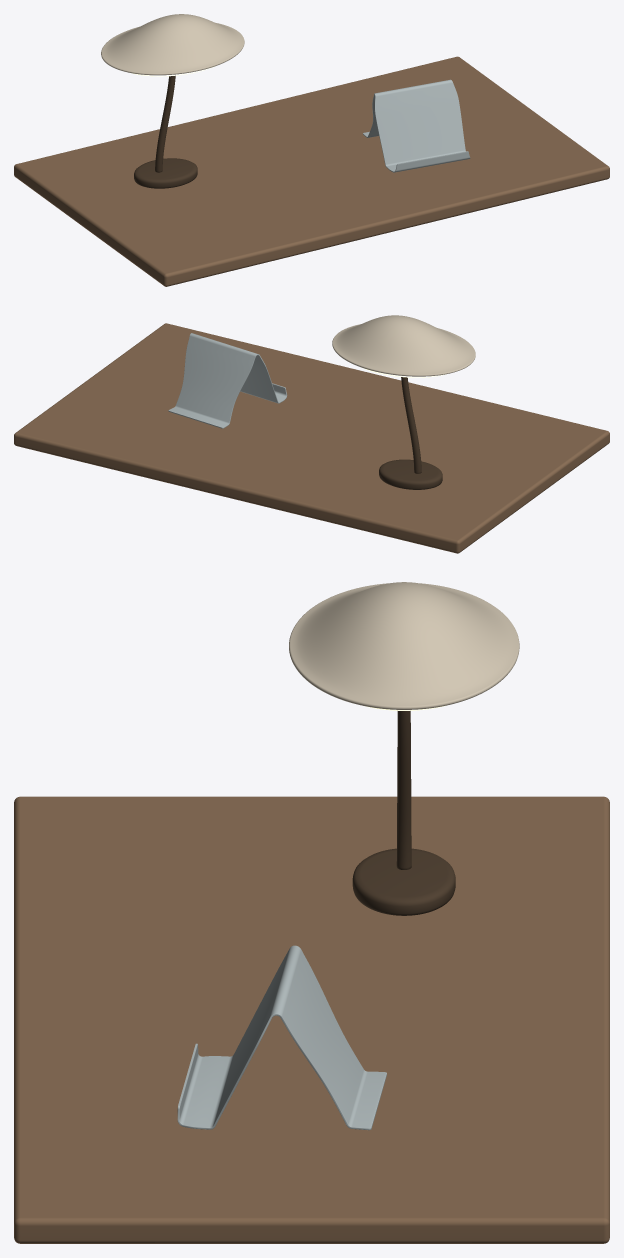
File: desk-atlas.glb
The picture shows the model from 3 angles, top to bottom: view 1: azimuth 30°, elevation 25°; view 2: azimuth 150°, elevation 25°; view 3: azimuth 270°, elevation 25°; orthographic projection. The views are drawn at different scales.
Visible parts, largest first — view 1: Desk Atlas / support, folio / FOLIO | single continuous folded shell, poise / 01 Shade - closed mineral shell, poise / 03 Base - rounded bronze plinth, poise / 04 Stem - tapered S curve; view 2: Desk Atlas / support, poise / 01 Shade - closed mineral shell, folio / FOLIO | single continuous folded shell, poise / 03 Base - rounded bronze plinth, poise / 04 Stem - tapered S curve; view 3: Desk Atlas / support, poise / 01 Shade - closed mineral shell, folio / FOLIO | single continuous folded shell, poise / 03 Base - rounded bronze plinth, poise / 04 Stem - tapered S curve.
Part boxes in pixels (x1,y1,x2,y2): Desk Atlas / support: (14, 56, 609, 286); folio / FOLIO | single continuous folded shell: (363, 79, 470, 172); poise / 01 Shade - closed mineral shell: (101, 14, 244, 75); poise / 03 Base - rounded bronze plinth: (134, 158, 197, 188); poise / 04 Stem - tapered S curve: (155, 75, 175, 172); Desk Atlas / support: (14, 323, 609, 553); poise / 01 Shade - closed mineral shell: (332, 315, 475, 376); folio / FOLIO | single continuous folded shell: (168, 333, 287, 428); poise / 03 Base - rounded bronze plinth: (379, 459, 442, 489); poise / 04 Stem - tapered S curve: (401, 377, 421, 473); Desk Atlas / support: (14, 796, 609, 1243); poise / 01 Shade - closed mineral shell: (289, 582, 519, 709); folio / FOLIO | single continuous folded shell: (177, 945, 386, 1130); poise / 03 Base - rounded bronze plinth: (352, 848, 455, 915); poise / 04 Stem - tapered S curve: (396, 711, 411, 869).
Size of what is drawn, in the model's own units: 1.42 by 0.517 by 0.84.
